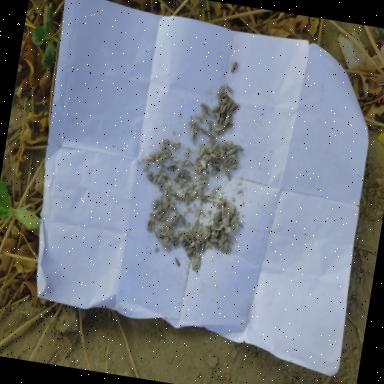pbw: (222, 108, 232, 126), (215, 197, 226, 210), (232, 144, 244, 154), (188, 123, 195, 140), (226, 146, 237, 156), (230, 60, 237, 74), (206, 120, 213, 134), (200, 240, 208, 252), (192, 132, 198, 146), (173, 256, 181, 266), (171, 142, 181, 150), (198, 178, 208, 186), (166, 164, 176, 172), (152, 197, 158, 210), (208, 152, 219, 159), (220, 103, 227, 114), (227, 158, 235, 167), (231, 103, 238, 113), (225, 84, 232, 94), (186, 247, 194, 255), (224, 170, 230, 180), (212, 105, 219, 113), (228, 162, 236, 169), (156, 174, 162, 183), (217, 98, 226, 104), (184, 194, 189, 204), (218, 86, 223, 96), (161, 138, 169, 144), (145, 156, 153, 162), (172, 141, 179, 147)
